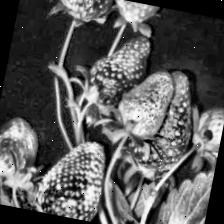Powdery Mildew Fruit: (122, 65, 204, 179), (32, 132, 113, 223), (80, 27, 153, 117), (111, 64, 178, 144), (54, 0, 115, 27), (112, 0, 164, 27)
